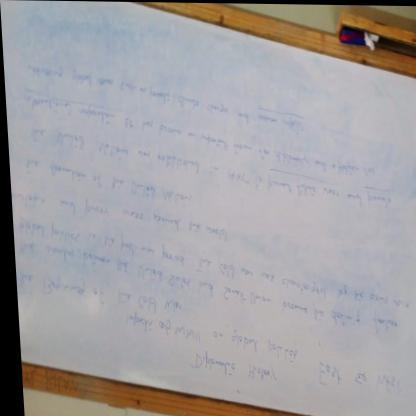Handwritten text: (10, 237, 404, 347), (10, 214, 413, 317), (115, 106, 381, 190), (22, 119, 227, 189), (17, 150, 199, 219), (51, 189, 233, 253), (116, 309, 302, 364), (34, 269, 187, 331), (249, 164, 399, 227), (182, 345, 279, 389), (369, 366, 400, 396), (310, 358, 338, 390)
Whiteboard: (3, 0, 416, 416)
